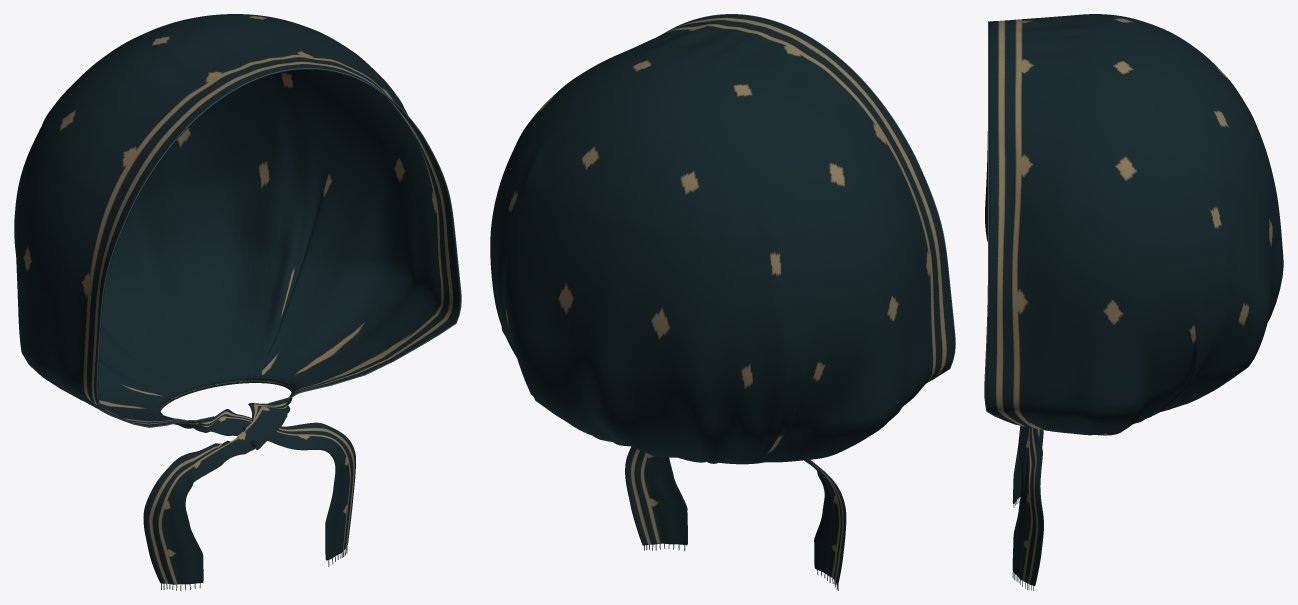
The model's file is Masculine-jersey-pashmina245-headgear.glb.
3 views of the same model, side by side, from view 1: azimuth 30°, elevation 25°; view 2: azimuth 150°, elevation 25°; view 3: azimuth 270°, elevation 25° (orthographic). The views are drawn at different scales.
Visible parts, largest first — view 1: 226 headgear / Headwear / continuous woven pashmina239, 226 headgear / Headwear / face edge239; view 2: 226 headgear / Headwear / continuous woven pashmina239, 226 headgear / Headwear / face edge239; view 3: 226 headgear / Headwear / continuous woven pashmina239, 226 headgear / Headwear / face edge239.
Boxes of the visible parts, x1,y1,x2,y2 form: 226 headgear / Headwear / continuous woven pashmina239: (14,14,460,584); 226 headgear / Headwear / face edge239: (96,68,461,427); 226 headgear / Headwear / continuous woven pashmina239: (490,14,954,584); 226 headgear / Headwear / face edge239: (663,14,955,382); 226 headgear / Headwear / continuous woven pashmina239: (985,14,1283,586); 226 headgear / Headwear / face edge239: (984,21,1018,425).
Bounding box in the file's own units: 1.03 × 1.35 × 0.7127.
3 materials, 1 textured.
